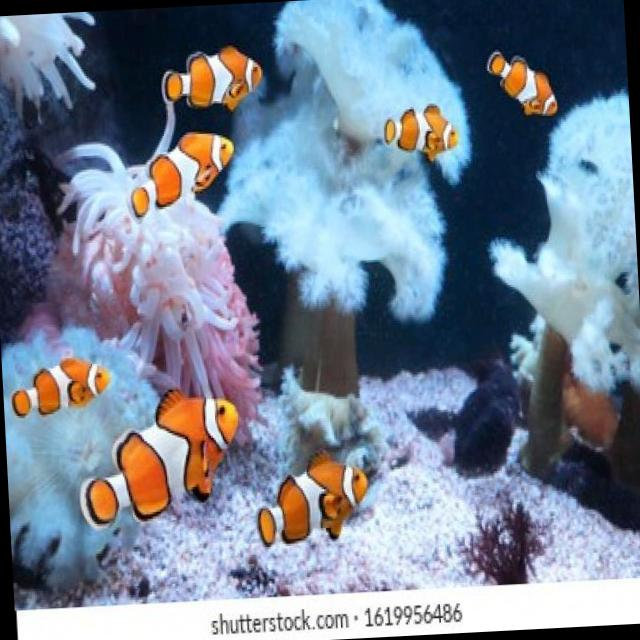ClownFish: (72, 388, 246, 536), (252, 450, 370, 550), (122, 127, 238, 217), (162, 41, 266, 118), (7, 348, 112, 423), (486, 47, 558, 122), (383, 101, 466, 161)
